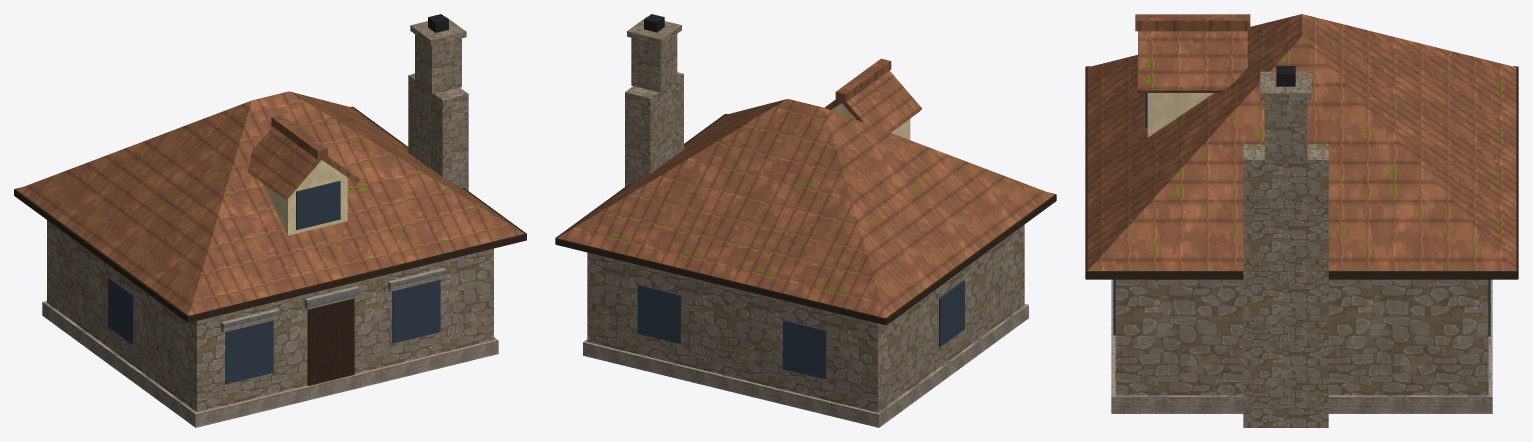
Rendered from stone_cottage.glb.
3 views of the same model, side by side, from view 1: azimuth 30°, elevation 25°; view 2: azimuth 150°, elevation 25°; view 3: azimuth 270°, elevation 25° (orthographic). The views are drawn at different scales.
Parts seen in each view (by area): view 1: stone_cottage; view 2: stone_cottage; view 3: stone_cottage.
Boxes of the visible parts, x1,y1,x2,y2 form: stone_cottage: [14, 14, 526, 427]; stone_cottage: [555, 14, 1056, 427]; stone_cottage: [1085, 14, 1518, 427].
Bounding box in the file's own units: 9.4 × 7.25 × 8.14.
7 materials, 5 textured.
